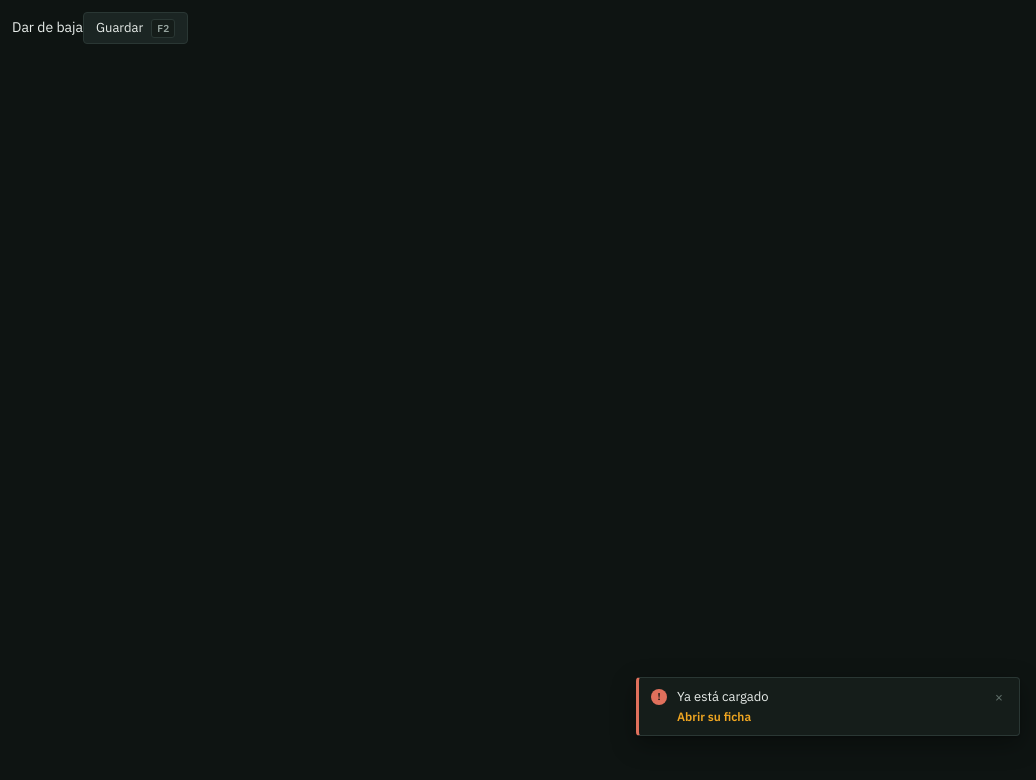
Scenario: las notificaciones › una acción en la notificación la ejecuta y la cierra
Step 1. Click the button "Abrir su ficha" → (714, 717), box [677,709,751,725]
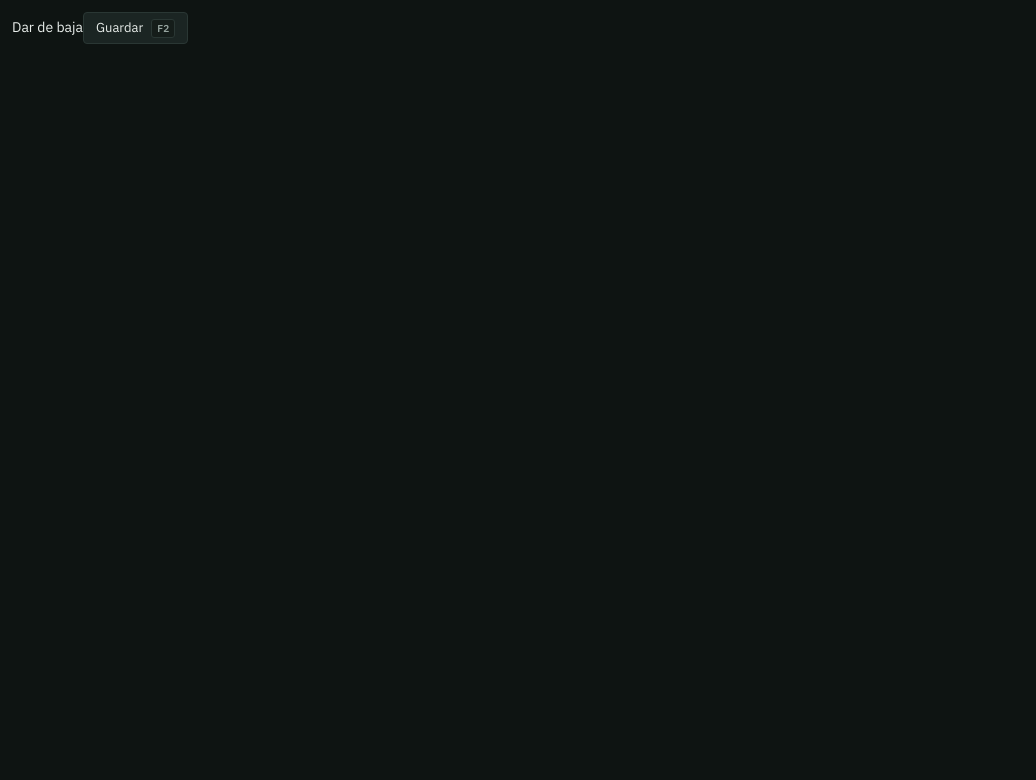
Check: the text "Ya está cargado" is gone
